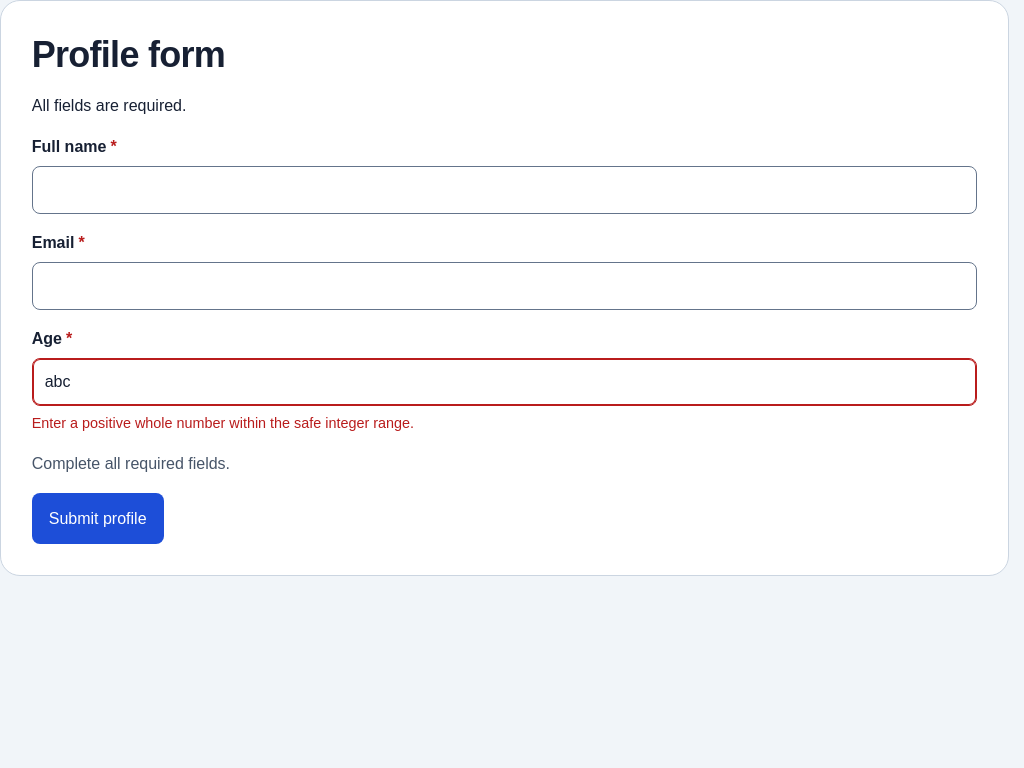
Test: InputField validation and accessibility › keeps invalid age text editable and accepts a positive integer
The width and height of the screenshot is (1024, 768).
Earlier steps of the test are not shown.
expect the text "Enter a positive whole number within the safe integer range." is shown: met, box x1=32 y1=415 x2=414 y2=431
Replace the text in the field labelled "Age" with "0" at (504,382), box x1=32 y1=358 x2=977 y2=406
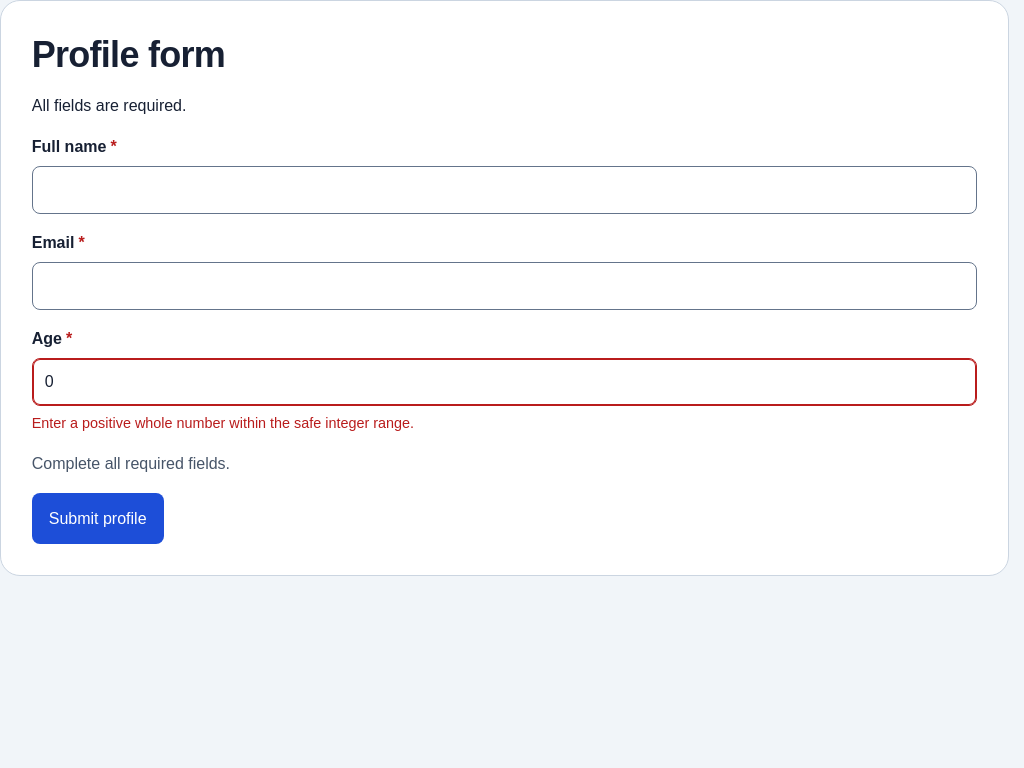
expect the text "Enter a positive whole number within the safe integer range." is shown: met, box x1=32 y1=415 x2=414 y2=431
expect the field labelled "Age" is marked as invalid: met
Replace the text in the field labelled "Age" with "-2" at (504,382), box x1=32 y1=358 x2=977 y2=406
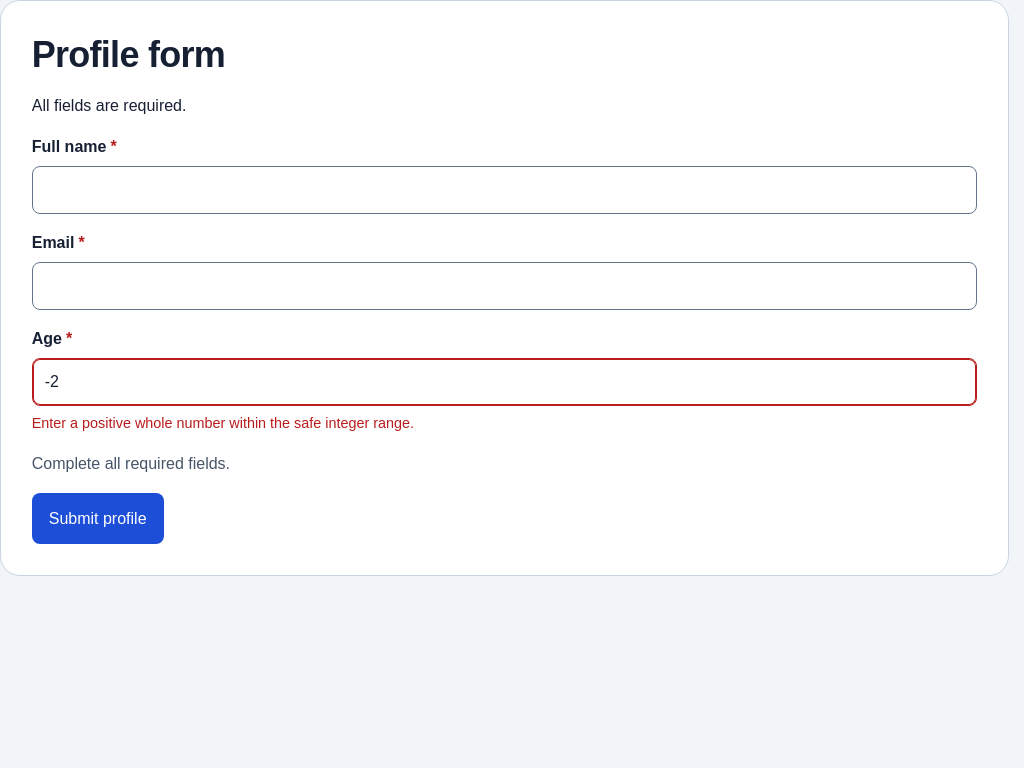
expect the text "Enter a positive whole number within the safe integer range." is shown: met, box x1=32 y1=415 x2=414 y2=431
expect the field labelled "Age" is marked as invalid: met
Replace the text in the field labelled "Age" with "1.5" at (504,382), box x1=32 y1=358 x2=977 y2=406
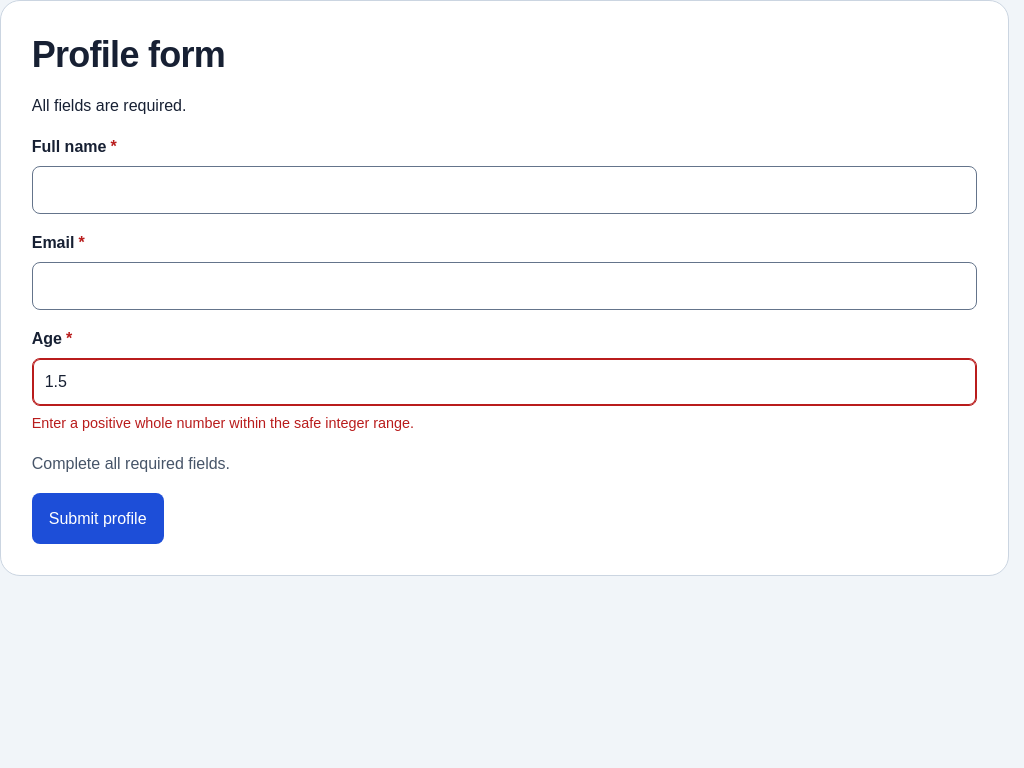
expect the text "Enter a positive whole number within the safe integer range." is shown: met, box x1=32 y1=415 x2=414 y2=431
expect the field labelled "Age" is marked as invalid: met
Replace the text in the field labelled "Age" with "2e1" at (504,382), box x1=32 y1=358 x2=977 y2=406
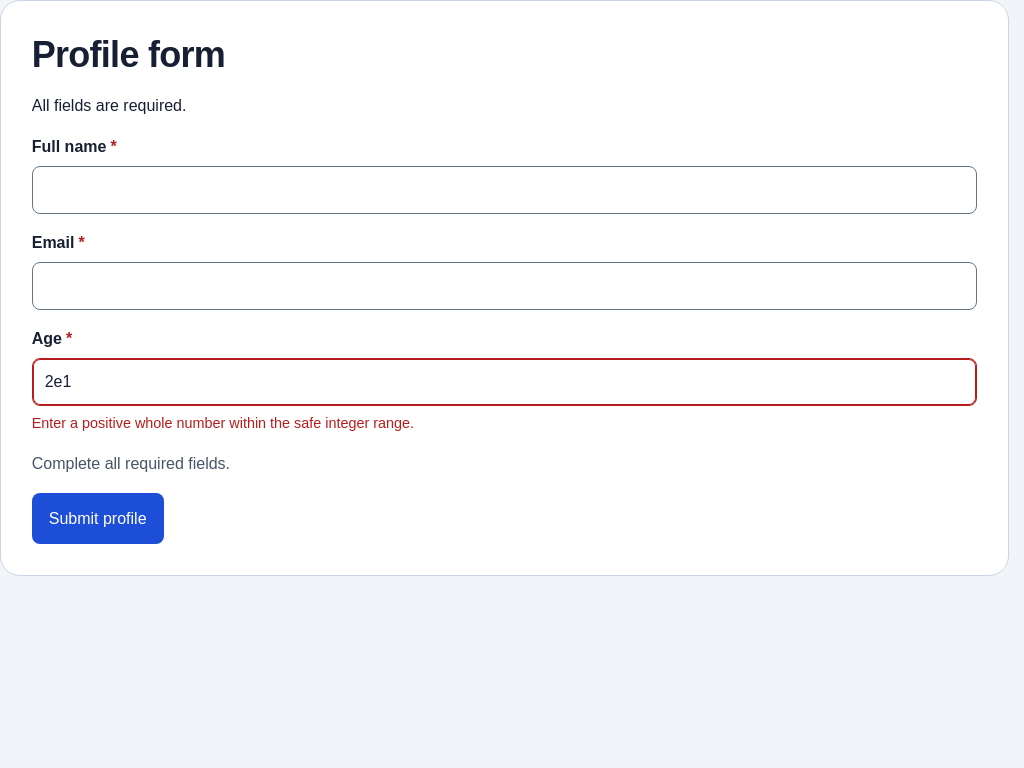
expect the text "Enter a positive whole number within the safe integer range." is shown: met, box x1=32 y1=415 x2=414 y2=431
expect the field labelled "Age" is marked as invalid: met
Clear the field labelled "Age" at (504,382), box x1=32 y1=358 x2=977 y2=406
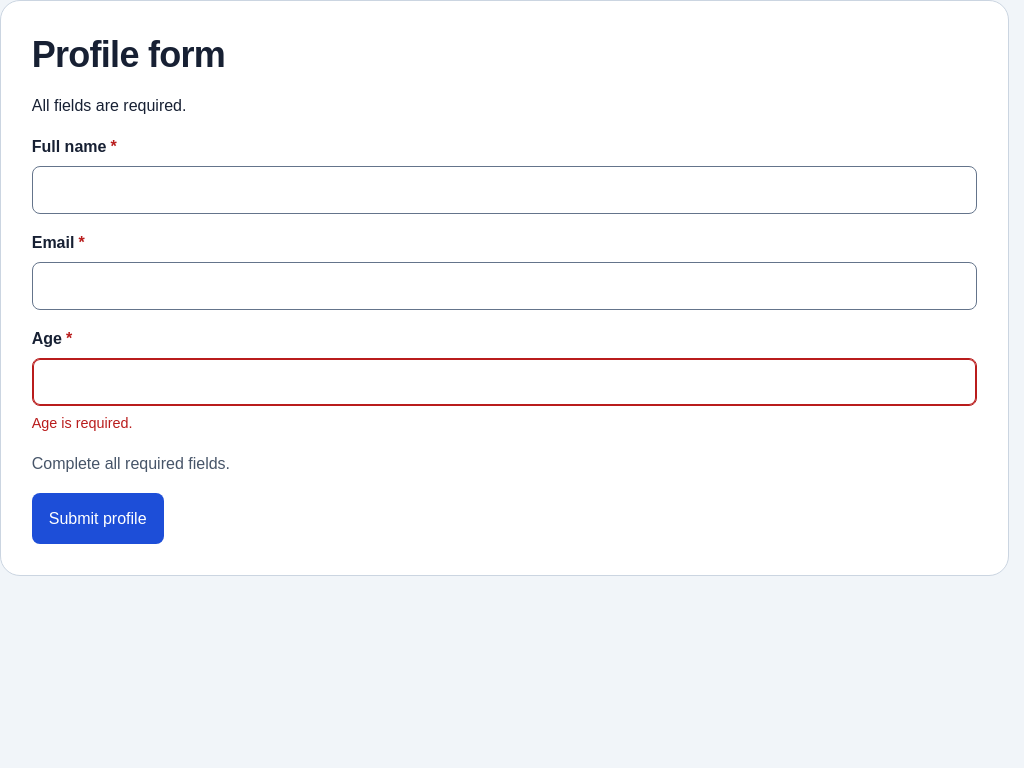
expect the text "Age is required." is shown: met, box x1=32 y1=415 x2=132 y2=431
Type "21" into the field labelled "Age" at (504,382), box x1=32 y1=358 x2=977 y2=406
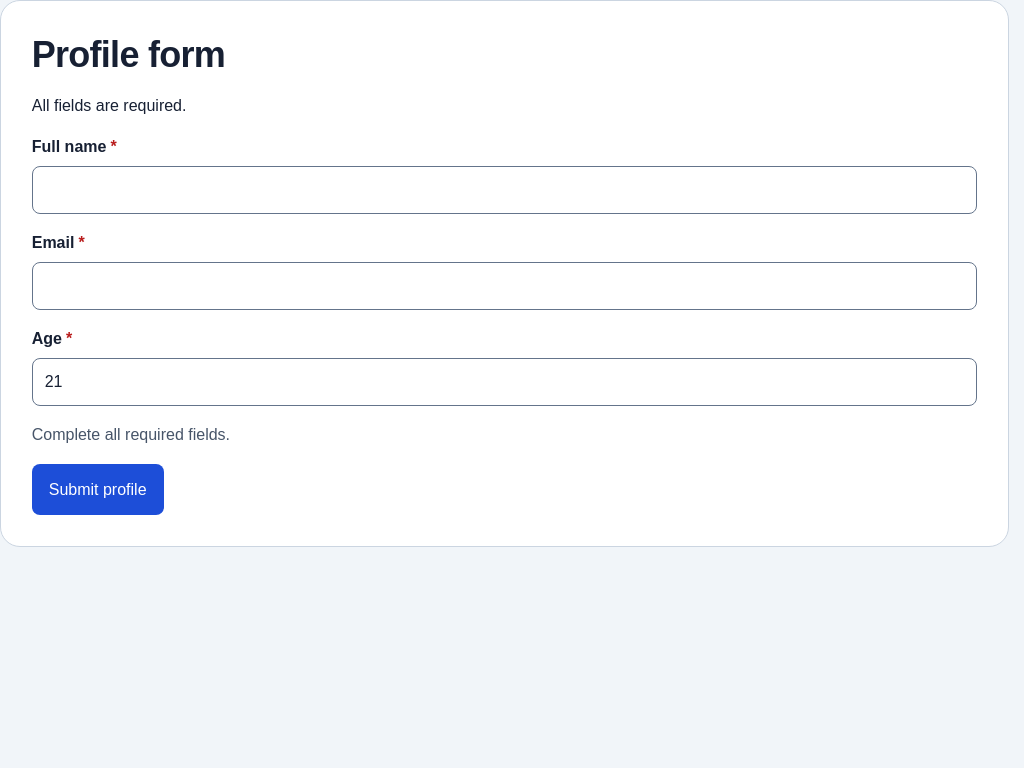
expect the text "Enter a positive whole number within the safe integer range." is not shown: met
expect the field labelled "Age" is not marked as invalid: met, box x1=32 y1=358 x2=977 y2=406
expect the field labelled "Age" does not have attribute aria-describedby: met, box x1=32 y1=358 x2=977 y2=406
